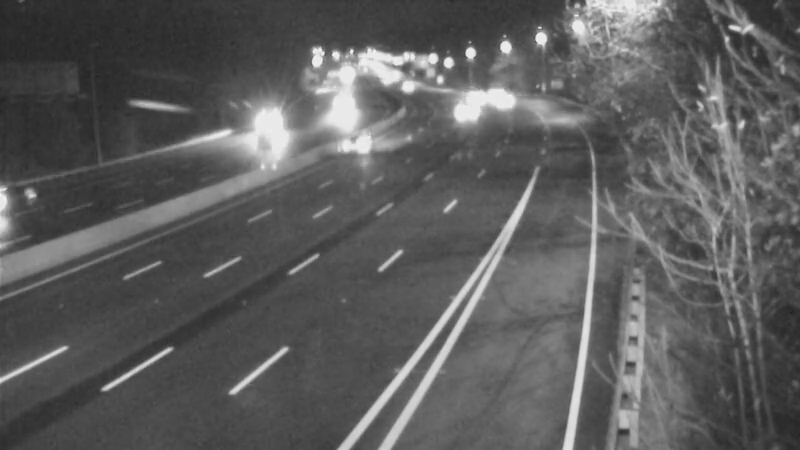vehicle: (1, 158, 69, 238), (380, 61, 430, 111), (483, 77, 533, 127), (451, 72, 501, 122), (439, 89, 489, 139), (324, 123, 374, 173), (231, 106, 281, 156), (312, 87, 362, 137)
